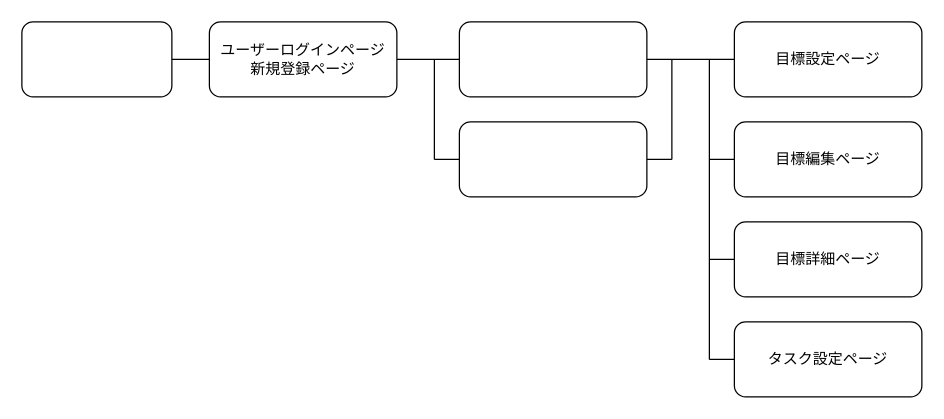
Image size: 944x419. Some labels were removed from this diagram. Here are the shapes that lost their labels. From the top down, the centre of each, then its label:
the point at 96,59: トップページ
the point at 552,59: マイページ
the point at 552,159: 目標一覧ページ
